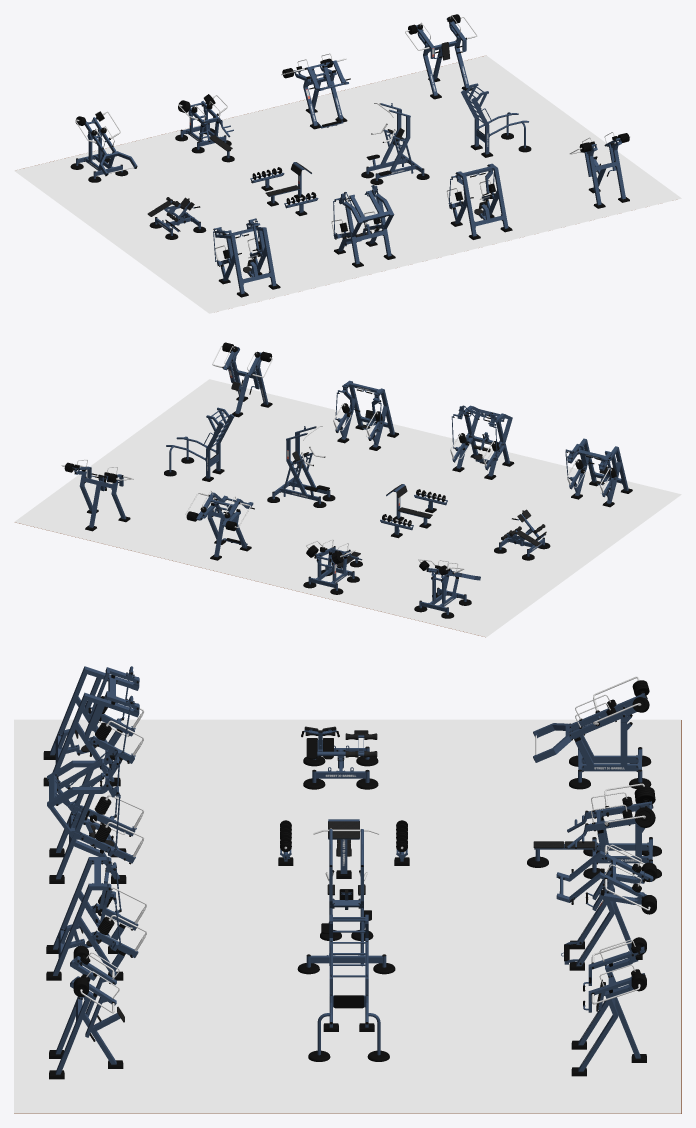
File: medium.glb
The picture shows the model from 3 angles, top to bottom: view 1: azimuth 30°, elevation 25°; view 2: azimuth 150°, elevation 25°; view 3: azimuth 270°, elevation 25°; orthographic projection. The views are drawn at different scales.
Visible parts, largest first — view 1: Shadow, Element_2.015, Element_2.053, Element_2.039, Blue metal, blue_metal.010, blue_metal.009, blue_metal, Element_2.002, blue_metal.006, accent.017, accent.001 (+4 smaller); view 2: Shadow, Element_2.015, Blue metal, Element_2.053, blue_metal.010, Element_2.039, blue_metal, blue_metal.006, Element_2.002, blue_metal.002, blue_metal.009, accent.017 (+5 smaller); view 3: Shadow, Element_2.015, Element_2.053, Element_2.039, accent.017, Blue metal, blue_metal.010, blue_metal, blue_metal.006, blue_metal.009, accent.001, Element_2.002 (+14 smaller).
Boxes of the visible parts, x1,y1,x2,y2 form: Shadow: (14,55,681,313); Element_2.015: (215,223,276,293); Element_2.053: (338,189,394,264); Element_2.039: (453,163,508,236); Blue metal: (366,103,424,180); blue_metal.010: (461,83,528,154); blue_metal.009: (586,138,625,205); blue_metal: (417,21,469,95); Element_2.002: (294,64,343,125); blue_metal.006: (76,128,122,178); accent.017: (333,185,384,244); accent.001: (295,60,348,128); Shadow: (14,379,681,637); Element_2.015: (567,438,628,503); Blue metal: (272,426,330,504); Element_2.053: (456,405,512,476); blue_metal.010: (166,407,234,478); Element_2.039: (340,380,394,447); blue_metal: (74,468,126,527); blue_metal.006: (419,572,466,614); Element_2.002: (198,505,247,557); blue_metal.002: (308,554,357,590); blue_metal.009: (231,347,268,413); accent.017: (451,405,502,470); Shadow: (14,719,681,1113); Element_2.015: (50,666,139,781); Element_2.053: (47,754,119,879); Element_2.039: (53,857,124,975); accent.017: (58,749,136,863); Blue metal: (306,829,386,967); blue_metal.010: (317,914,380,1055); blue_metal: (578,950,640,1071); blue_metal.006: (575,706,642,782); blue_metal.009: (55,956,120,1074); accent.001: (556,850,653,964); Element_2.002: (576,871,644,966).
Size of what is drawn, in the model's own units: 16.68 by 2.35 by 11.95.
82 materials, 19 textured.
